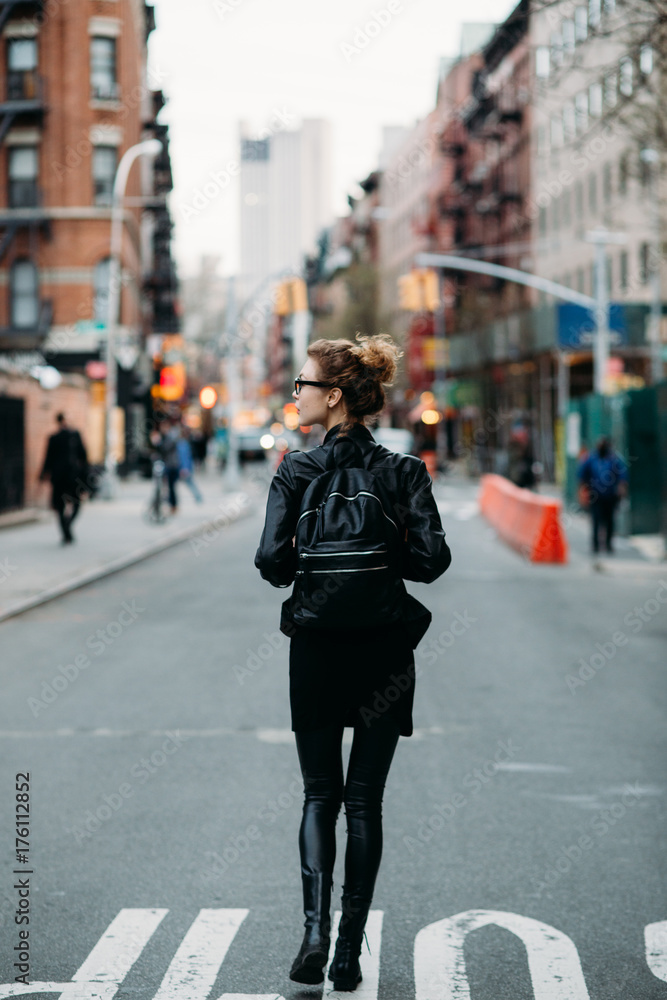person: (253, 336, 458, 1000)
